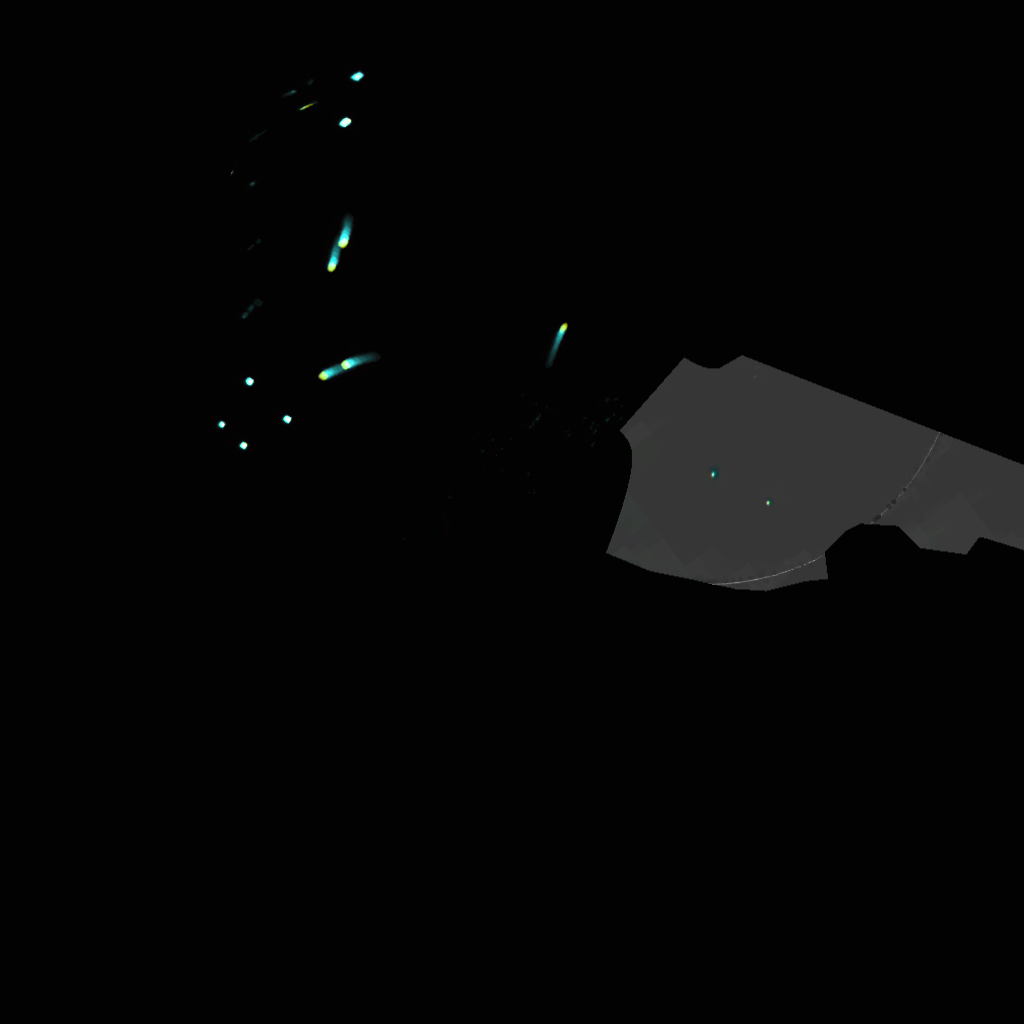B: (340, 349, 376, 372), (550, 319, 567, 356), (315, 361, 344, 381), (336, 215, 353, 249), (325, 243, 343, 274)
